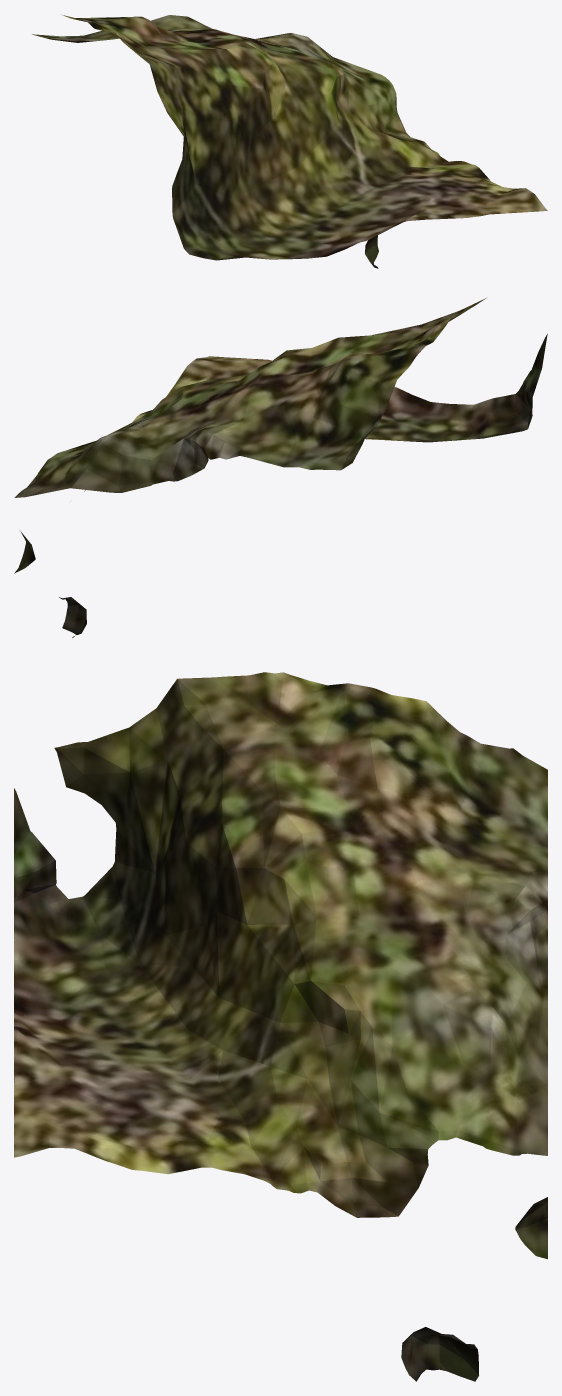
3 renders of one model, top to bottom at view 1: azimuth 30°, elevation 25°; view 2: azimuth 150°, elevation 25°; view 3: azimuth 270°, elevation 25°, orthographic. The views are drawn at different scales.
Bounding box in the file's own units: 0.8374 × 0.8373 × 0.8373.
3 materials, 3 textured.
